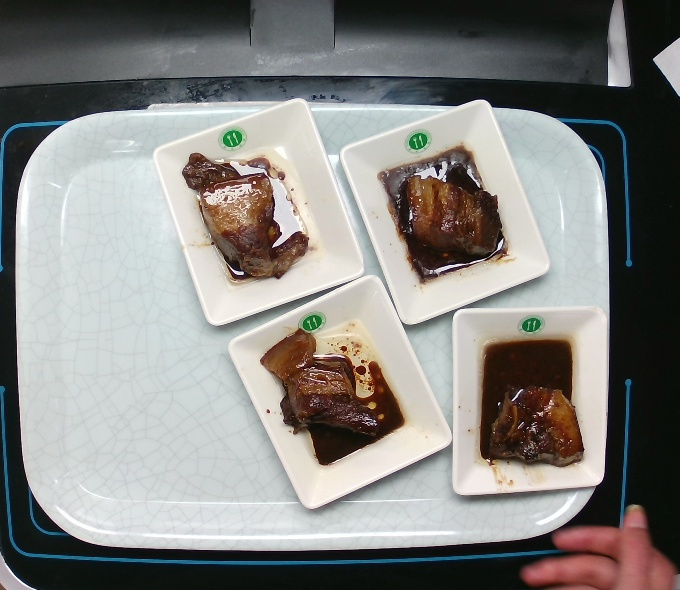wcq-DaKuaiRou: (253, 314, 414, 474), (368, 137, 520, 289), (177, 141, 325, 292), (472, 329, 591, 477)
